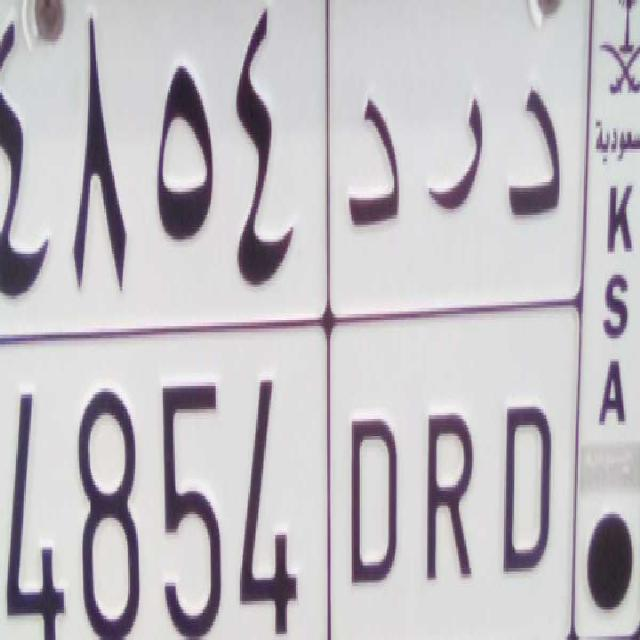license_plate: (0, 315, 571, 640)
